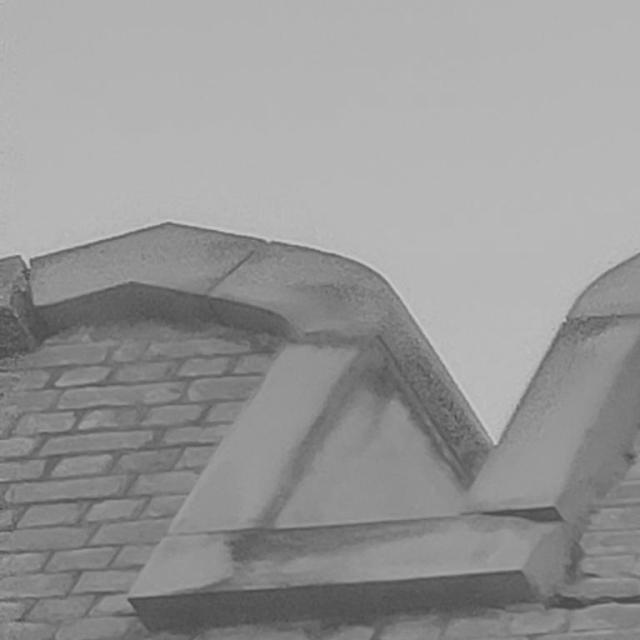crack: (546, 592, 640, 610)
